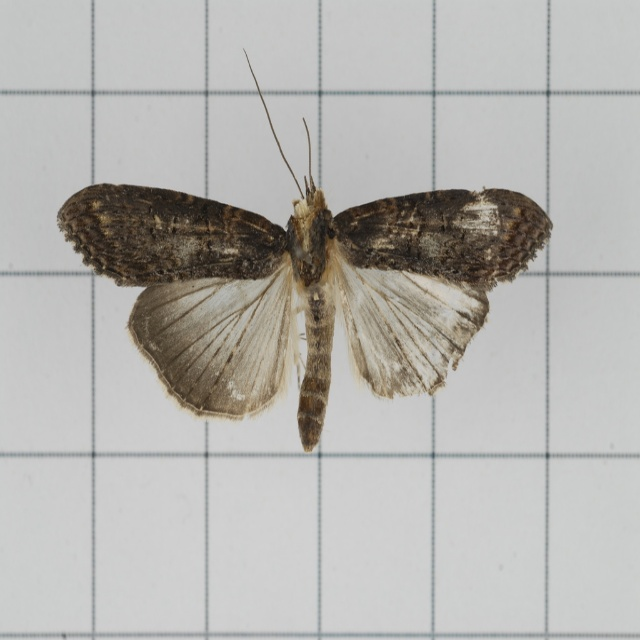Butterfly: (73, 70, 530, 465)
